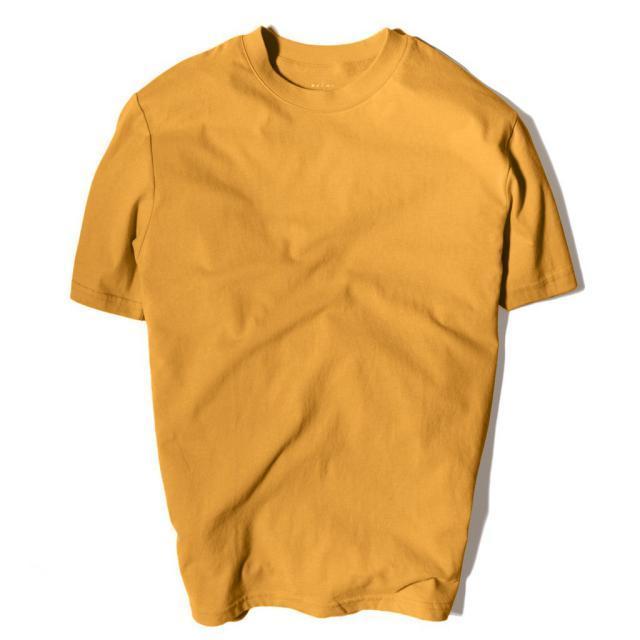Shirt: (58, 18, 588, 632)
